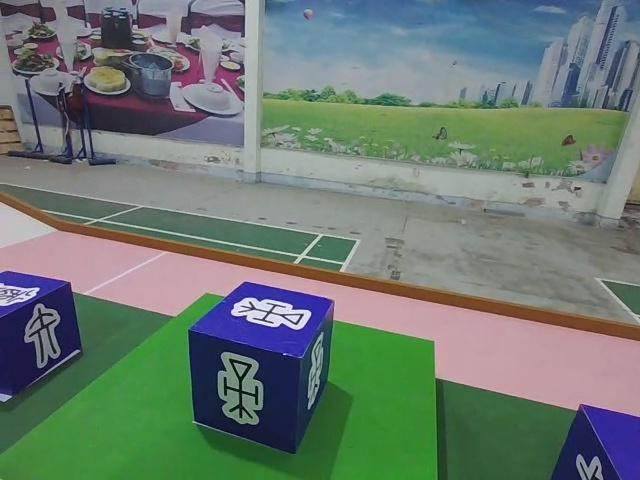R2 Fake Blue: (0, 271, 84, 403)
R2 Real Blue: (189, 281, 335, 453)
